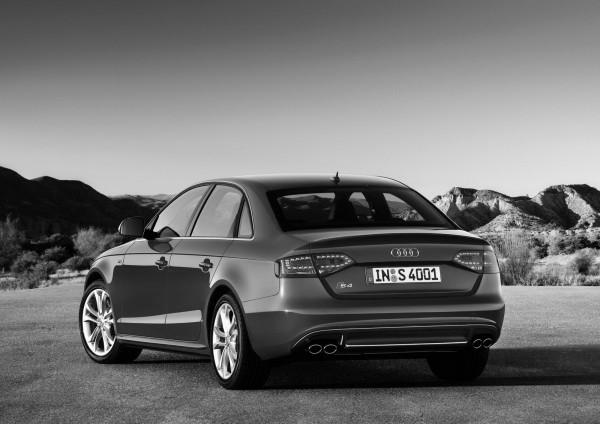car: (77, 171, 505, 389)
